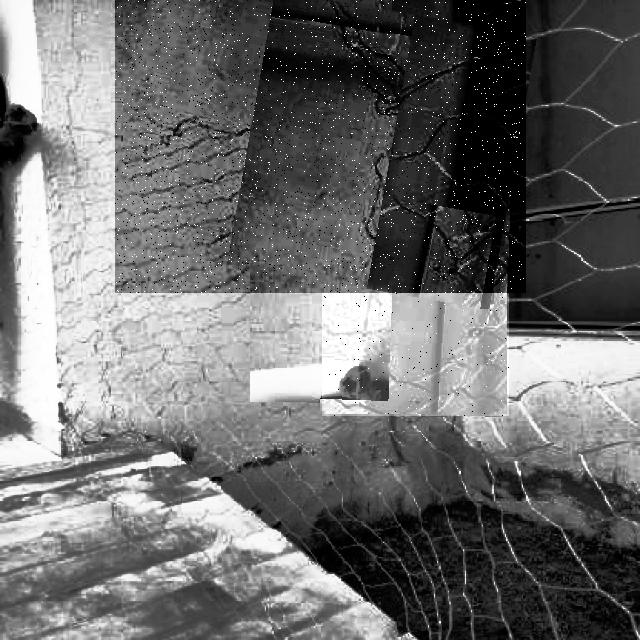anomaly-fence: (115, 0, 526, 293), (322, 182, 509, 416)
